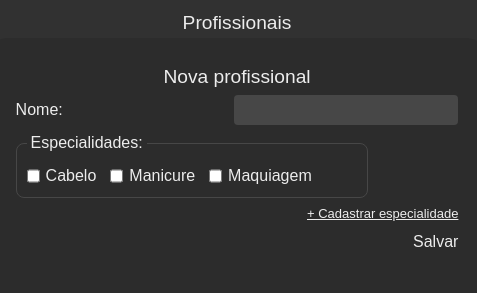
Test: Profissionais: várias especialidades › cadastra com todas as especialidades marcadas
In the field labelled "Nome:": (346, 110) [234,95,458,125], type "Carla"
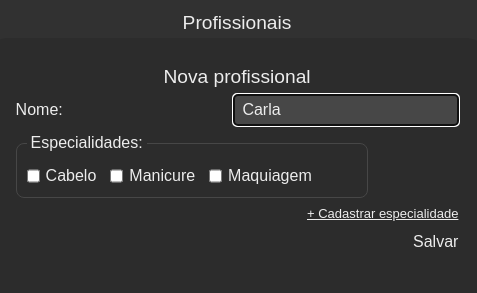
Click the checkbox labelled "Cabelo": click(33, 176) [27,161,40,191]
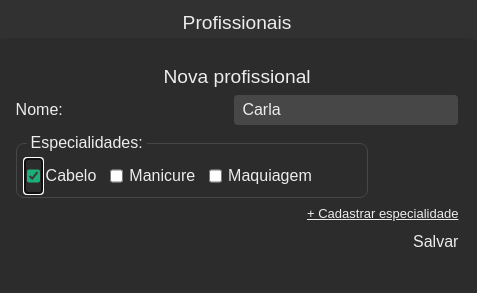
Click the checkbox labelled "Maquiagem": click(216, 176) [209,161,222,191]
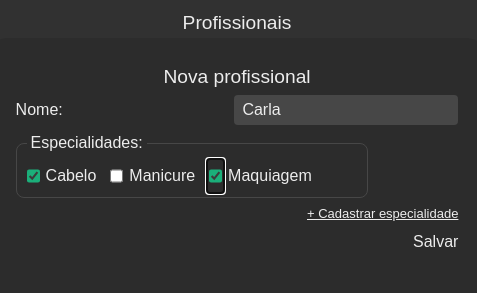
Click the button "Salvar": click(436, 242) [413,230,458,254]
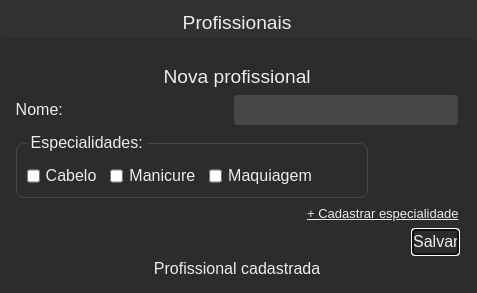
Result: the message reads "Profissional cadastrada" at [154,260,320,277]
